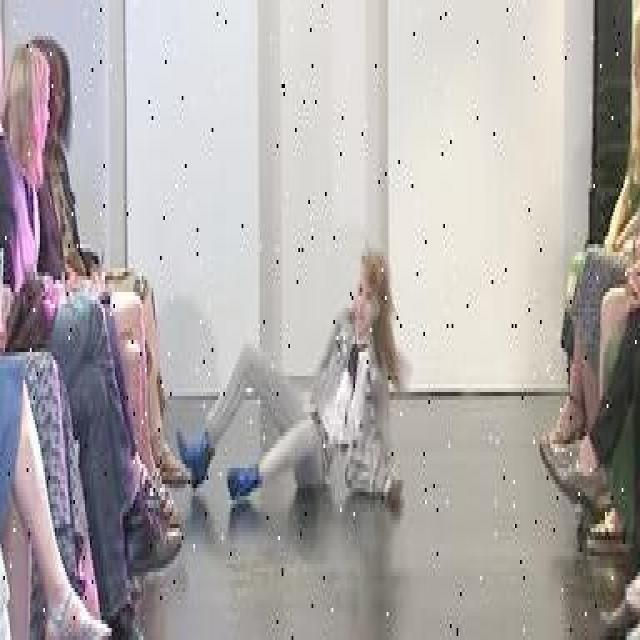fall: (195, 244, 410, 520)
